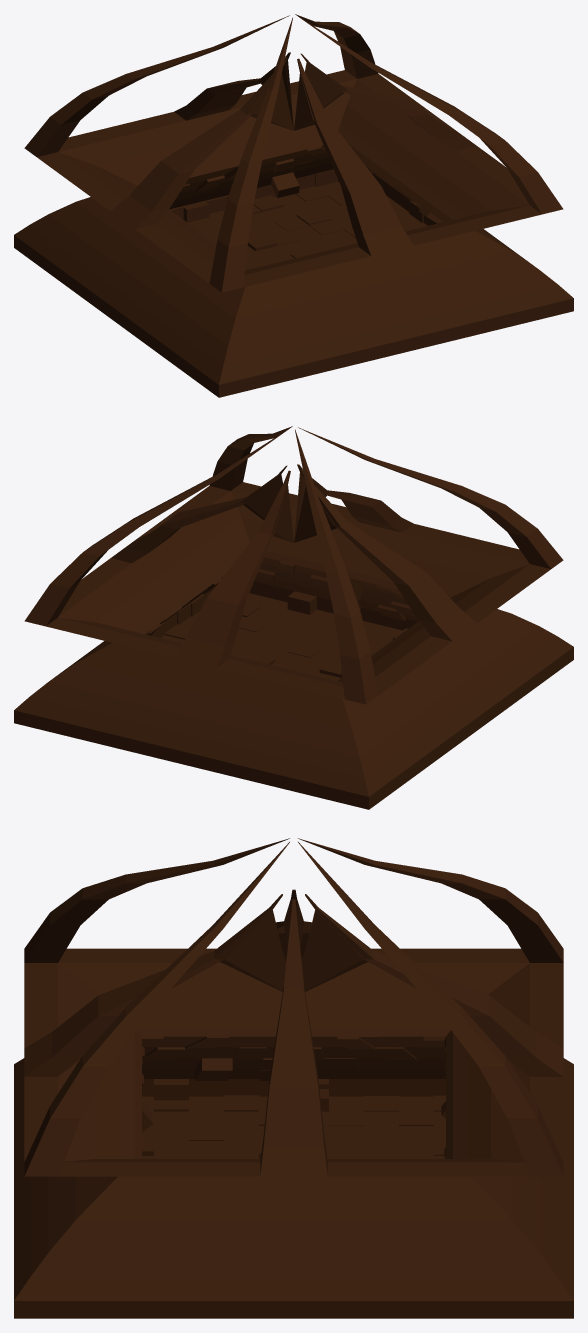
Rendered from FinalArena.fbx.
The picture shows the model from 3 angles, top to bottom: view 1: azimuth 30°, elevation 25°; view 2: azimuth 150°, elevation 25°; view 3: azimuth 270°, elevation 25°; orthographic projection. The views are drawn at different scales.
Visible parts, largest first — view 1: Plane; view 2: Plane; view 3: Plane.
Boxes of the visible parts, <box> form: Plane: <box>14,14,573,397</box>; Plane: <box>14,426,573,809</box>; Plane: <box>14,838,573,1318</box>.
Bounding box in the file's own units: 6000 × 4278 × 6000.
